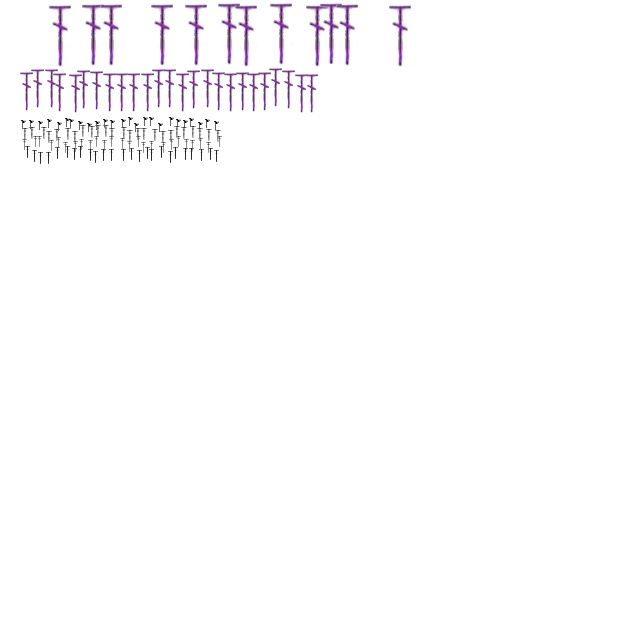double treble: (49, 2, 71, 68), (218, 0, 240, 66), (235, 2, 257, 68), (270, 0, 292, 66), (306, 2, 328, 68), (389, 2, 411, 68), (82, 2, 104, 66), (100, 2, 122, 66), (151, 2, 173, 66), (185, 2, 207, 66), (320, 0, 342, 64), (336, 2, 358, 66), (20, 70, 34, 112), (212, 70, 226, 112), (236, 70, 250, 112), (258, 70, 272, 112), (282, 68, 296, 110), (90, 70, 104, 110), (152, 68, 166, 108), (176, 72, 190, 112), (224, 72, 238, 112), (70, 72, 82, 114), (78, 68, 90, 110), (188, 68, 200, 110), (270, 66, 282, 108), (296, 72, 308, 114), (306, 72, 318, 114), (32, 68, 44, 108), (46, 68, 58, 108), (54, 72, 66, 112), (104, 72, 116, 112), (116, 72, 128, 112), (128, 72, 140, 112), (142, 72, 154, 112), (164, 68, 176, 108), (202, 68, 214, 108), (248, 72, 260, 112), (22, 128, 28, 140), (29, 127, 35, 139), (41, 127, 47, 139), (46, 131, 52, 143), (54, 129, 60, 141), (65, 128, 71, 140), (72, 131, 78, 143), (80, 125, 86, 137), (89, 126, 95, 138), (95, 125, 101, 137), (103, 125, 109, 137), (109, 128, 115, 140), (121, 127, 127, 139), (127, 130, 133, 142), (135, 128, 141, 140), (141, 128, 147, 140), (152, 129, 158, 141), (160, 131, 166, 143), (168, 130, 174, 142), (174, 126, 180, 138), (181, 127, 187, 139), (190, 126, 196, 138), (197, 128, 203, 140), (206, 129, 212, 141), (215, 130, 221, 142), (88, 140, 94, 152), (94, 136, 100, 148), (102, 140, 108, 152), (120, 138, 126, 150), (136, 136, 142, 148), (176, 136, 182, 148), (190, 140, 196, 152), (198, 138, 204, 150), (206, 142, 212, 154), (32, 150, 38, 162), (38, 152, 44, 164), (46, 152, 52, 164), (72, 148, 78, 160), (78, 146, 84, 158), (88, 149, 94, 161), (168, 151, 174, 163), (208, 148, 214, 160), (214, 150, 220, 162), (110, 120, 116, 130), (198, 122, 204, 132), (22, 140, 28, 150), (56, 138, 62, 148), (184, 140, 190, 150), (38, 122, 44, 130), (78, 122, 84, 130), (128, 118, 134, 126), (134, 124, 140, 132), (158, 124, 164, 132), (176, 120, 182, 128), (214, 122, 220, 130), (34, 136, 38, 148), (38, 136, 42, 148), (50, 140, 54, 152), (64, 142, 68, 154), (110, 136, 114, 148), (142, 142, 146, 154), (162, 142, 166, 154), (218, 136, 222, 148), (26, 146, 30, 158), (56, 147, 60, 159), (66, 146, 70, 158), (94, 151, 98, 163), (102, 149, 106, 161), (110, 149, 114, 161), (122, 149, 126, 161), (130, 148, 134, 160), (138, 150, 142, 162), (146, 147, 150, 159), (150, 149, 154, 161), (160, 146, 164, 158), (174, 147, 178, 159), (184, 148, 188, 160), (190, 148, 194, 160), (200, 149, 204, 161), (22, 120, 26, 130), (30, 120, 34, 130), (58, 122, 62, 132), (66, 118, 70, 128), (184, 120, 188, 130), (190, 118, 194, 128), (74, 142, 78, 152), (80, 140, 84, 150), (128, 142, 132, 152), (150, 142, 154, 152), (170, 140, 174, 150), (48, 120, 52, 128), (70, 120, 74, 128), (88, 124, 92, 132), (96, 122, 100, 130), (104, 120, 108, 128), (122, 120, 126, 128), (144, 118, 148, 126), (150, 118, 154, 126), (170, 118, 174, 126), (206, 120, 210, 128)
